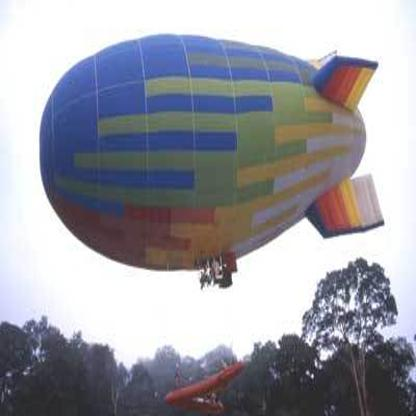Airship: (38, 32, 399, 290)
